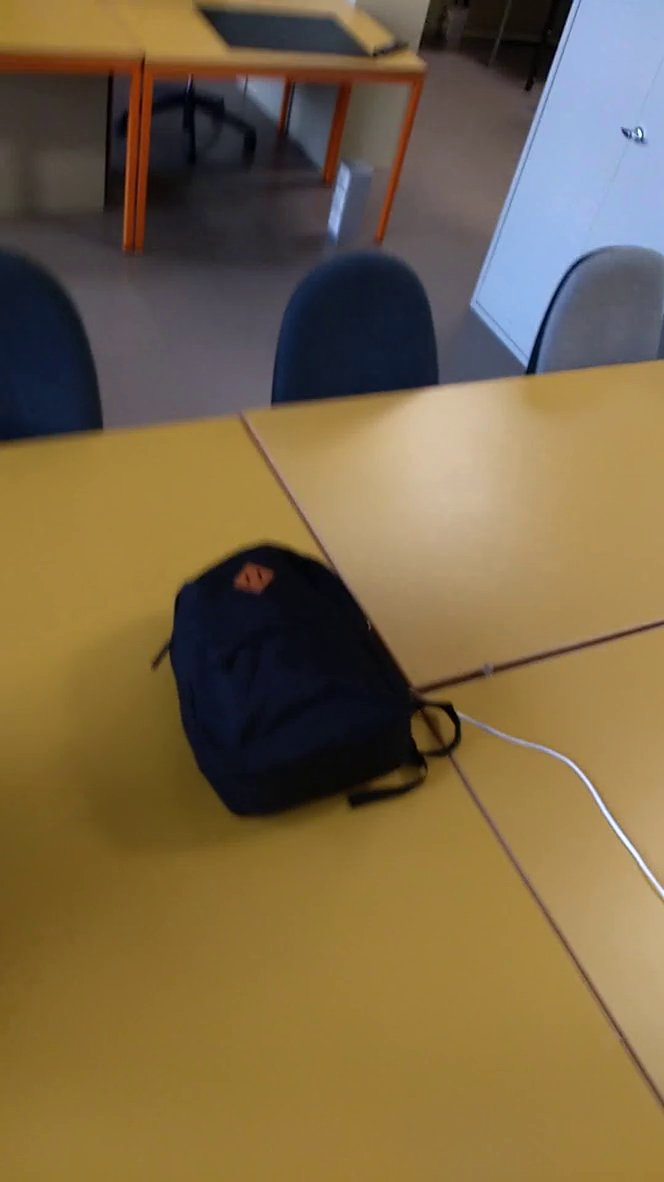bag: (142, 535, 491, 828)
chair: (259, 236, 457, 411), (518, 231, 664, 389)
